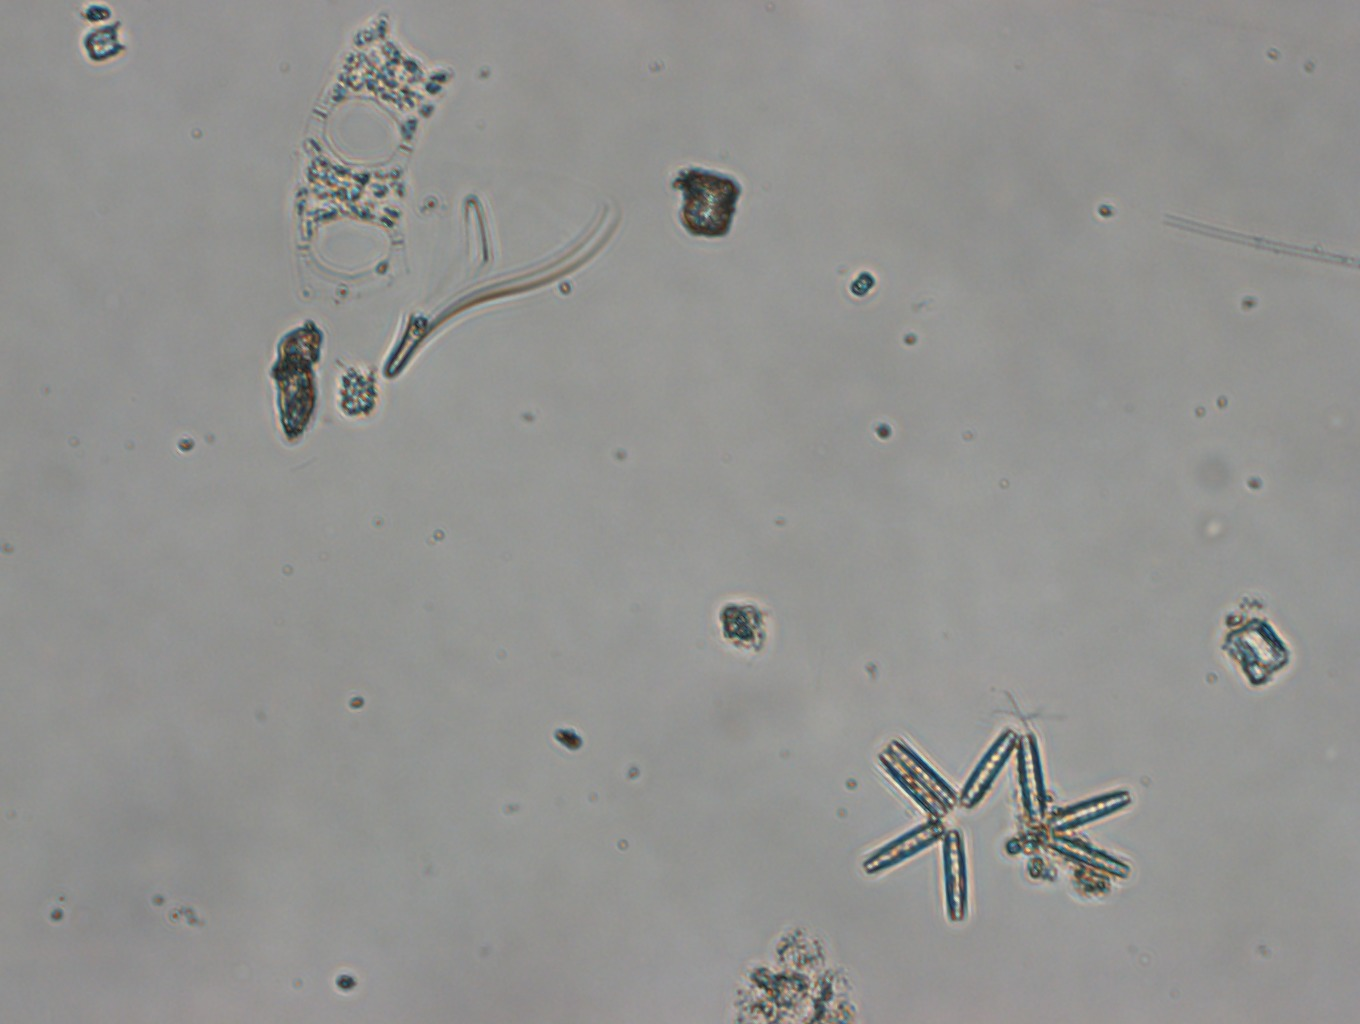eucampia: (277, 3, 466, 310)
thalassionema nitzschioides: (855, 715, 1141, 934)
